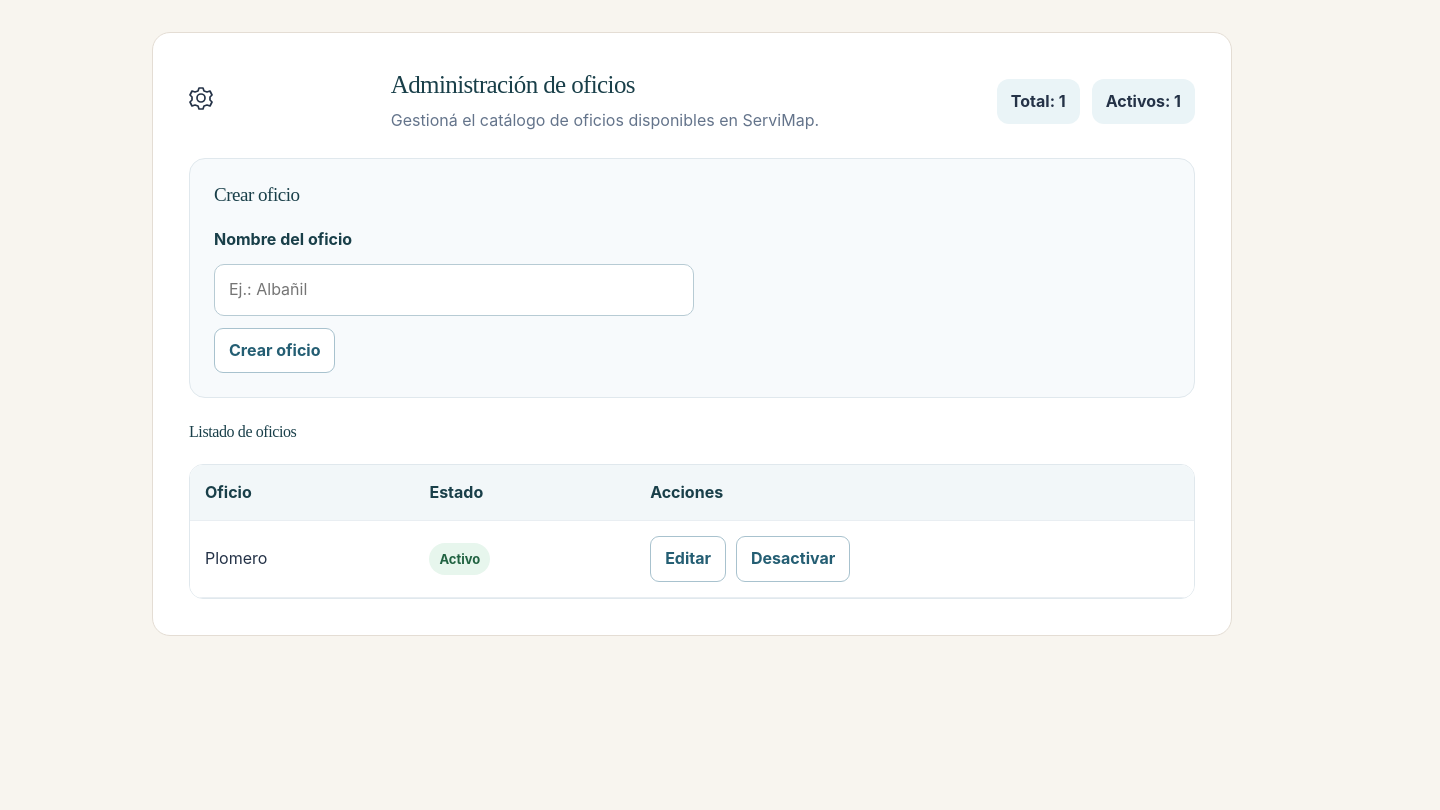
it: Administración remota de oficios › crea un oficio y muestra la respuesta del servidor
Expected: the text "Plomero" is shown, [190, 521, 414, 597]
Step 1. Type "Albañil" into the field labelled "Nombre del oficio" → (454, 290), box [214, 264, 694, 316]
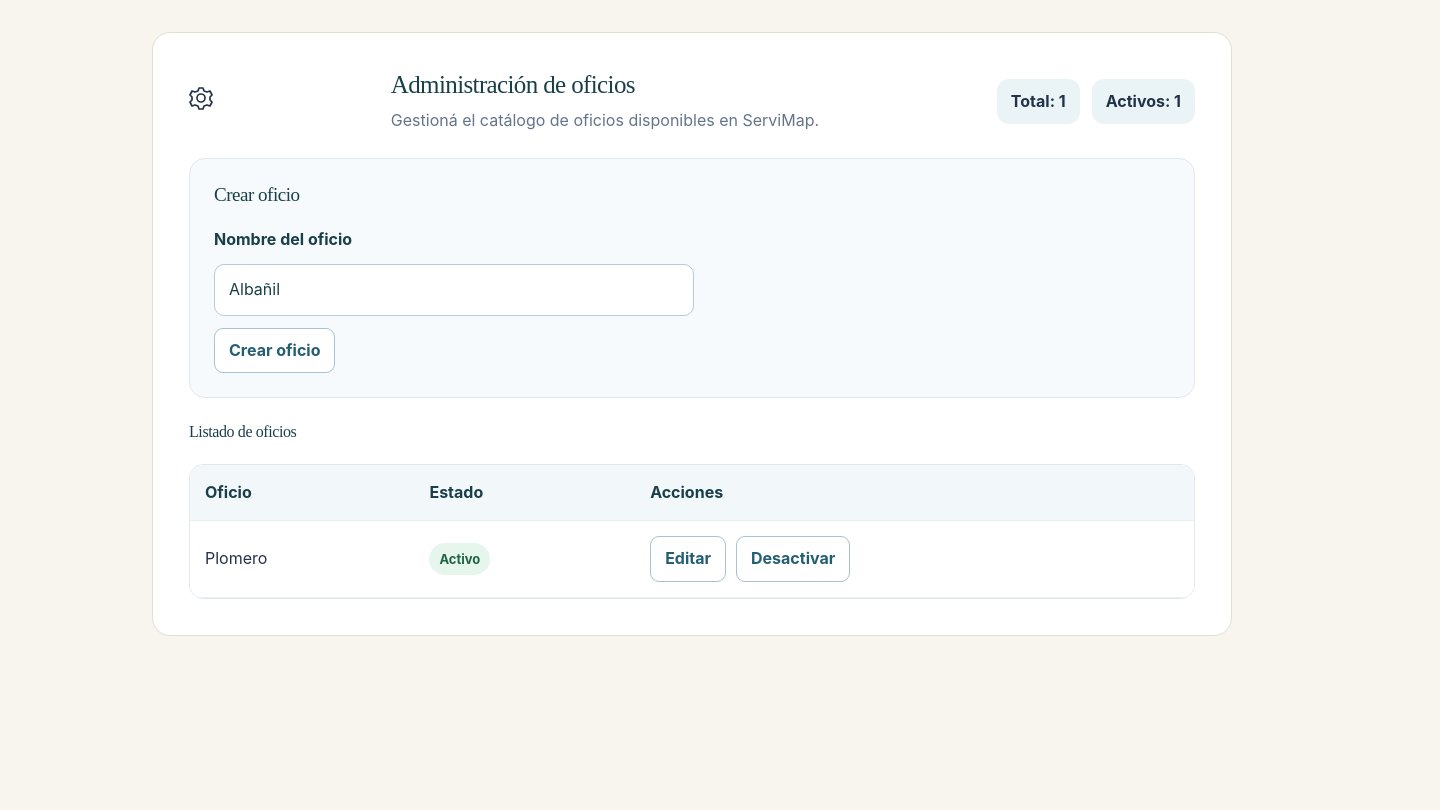
Step 2. Click the button "Crear oficio" → (275, 351), box [214, 328, 336, 373]
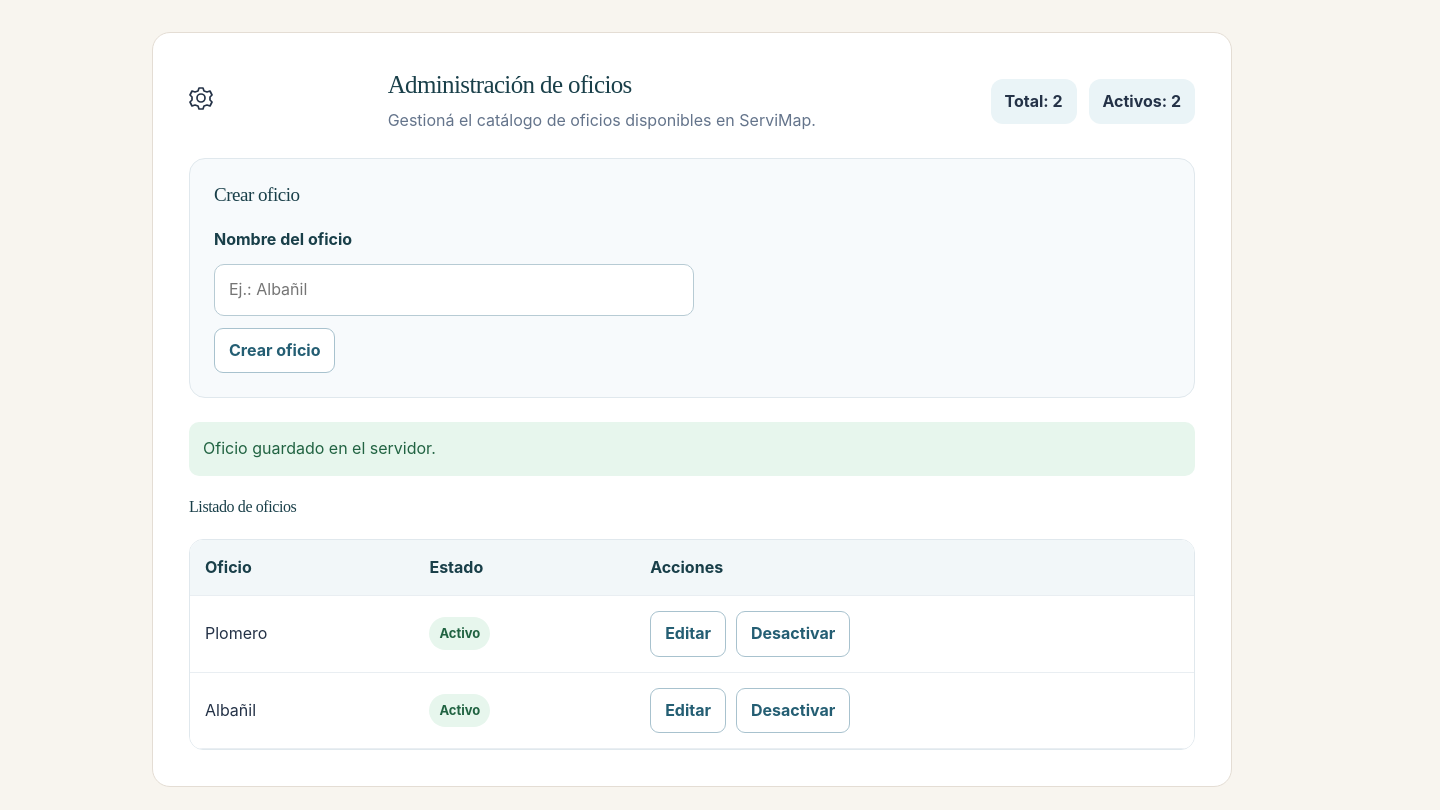
Result: the text "Albañil" is shown at [190, 672, 414, 749]
